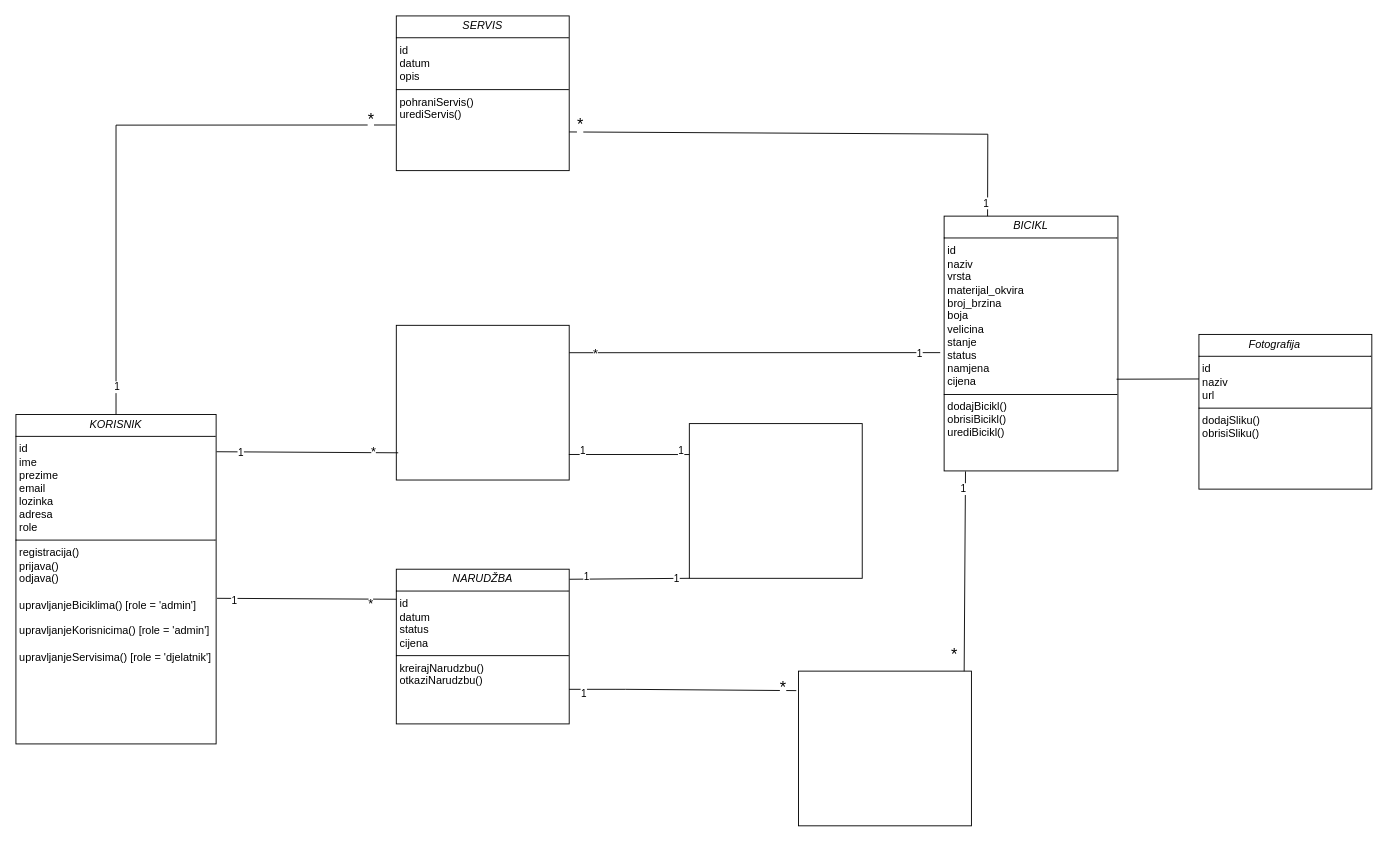
This 1388x842 diagram has some shape labels left out. Each missing label, with the box of its shape:
NARUDZBA_BICIKL id id_narudzbe id_bicikla dodajStavku() obrisiStavku(): (798, 670, 971, 826)
RAČUN id datum_izdavanja iznos nacin_placanja generirajRacun() prikaziRacun(): (688, 423, 862, 578)
REZERVACIJA id datum_od datum_do status kreirajRezervaciju() otkaziRezervaciju(): (395, 324, 569, 480)
